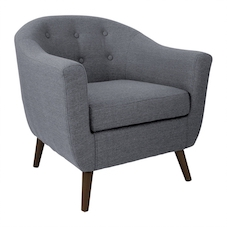chair: (8, 7, 225, 218)
